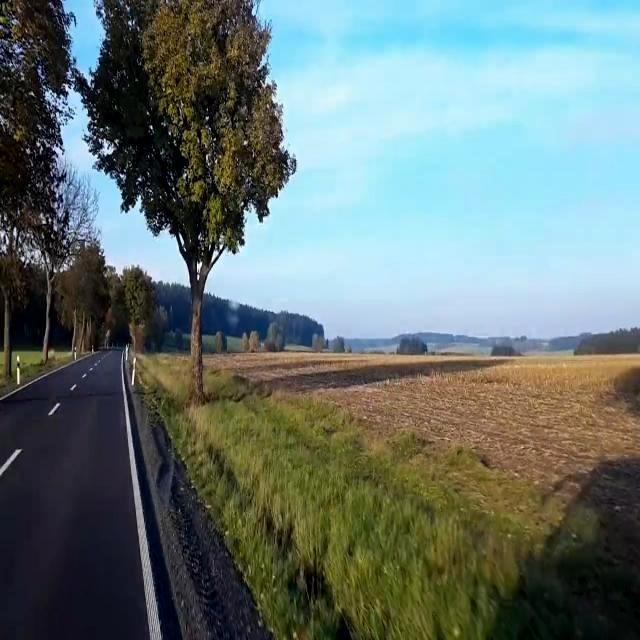lane: (122, 356, 162, 640), (48, 402, 60, 416)
road: (0, 351, 148, 639)
